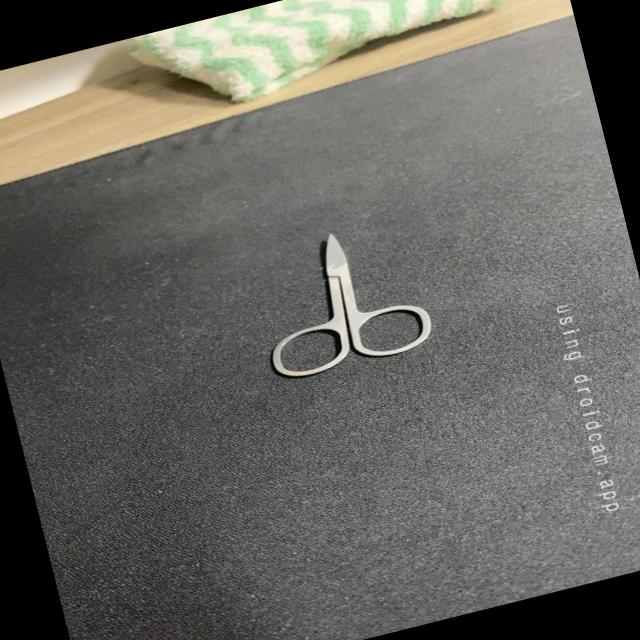scissor: (234, 210, 440, 388)
